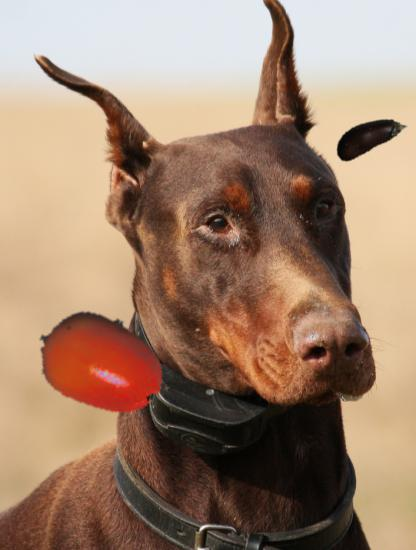Eggplant: (331, 99, 407, 175)
Kaki: (33, 294, 170, 431)
